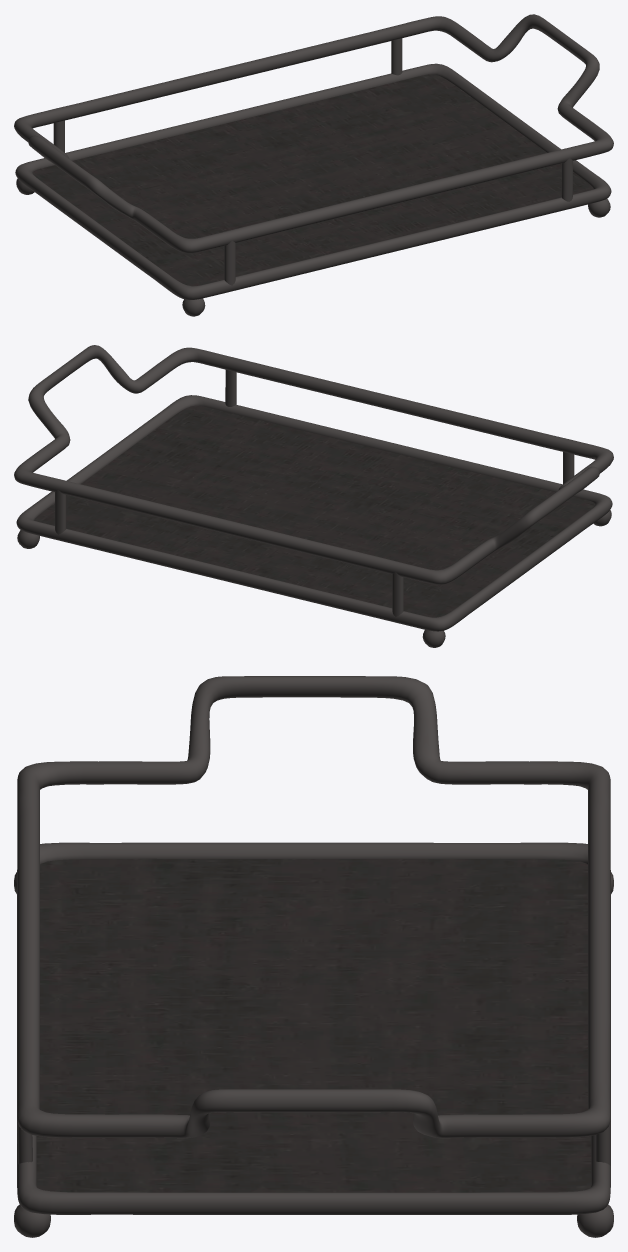
The picture shows the model from 3 angles, top to bottom: view 1: azimuth 30°, elevation 25°; view 2: azimuth 150°, elevation 25°; view 3: azimuth 270°, elevation 25°; orthographic projection. The views are drawn at different scales.
Visible parts, largest first — view 1: RootNode; view 2: RootNode; view 3: RootNode.
Boxes of the visible parts, bbox=[...] form: RootNode: bbox=[14, 14, 613, 316]; RootNode: bbox=[14, 345, 613, 647]; RootNode: bbox=[14, 676, 613, 1237].
Bounding box in the file's own units: 0.4946 × 0.1008 × 0.2969.
1 material, 1 textured.
